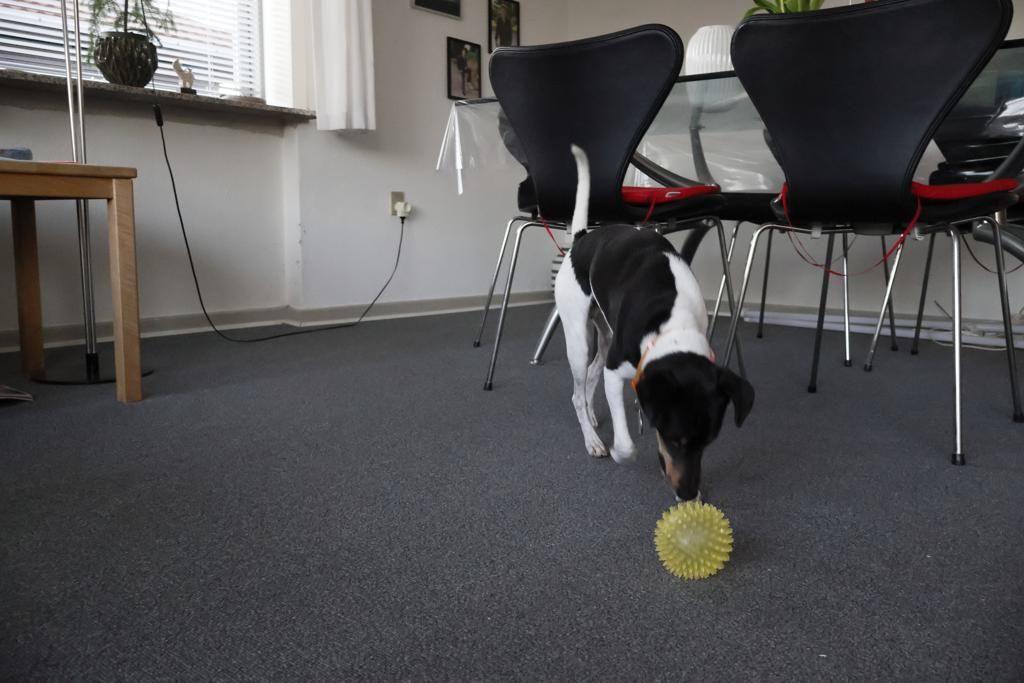Dog: (541, 132, 764, 509)
